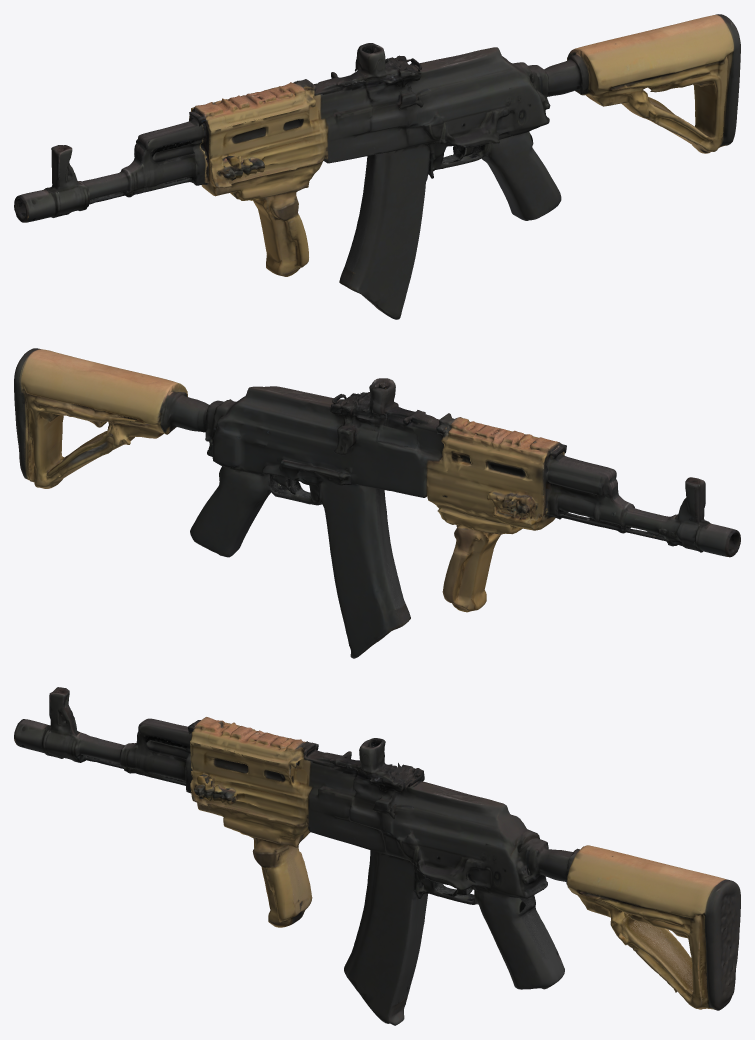
3 renders of one model, top to bottom at view 1: azimuth 30°, elevation 25°; view 2: azimuth 150°, elevation 25°; view 3: azimuth 330°, elevation 25°, orthographic.
Bounding box in the file's own units: 2 × 0.7455 × 0.1986.
1 material, 1 textured.
